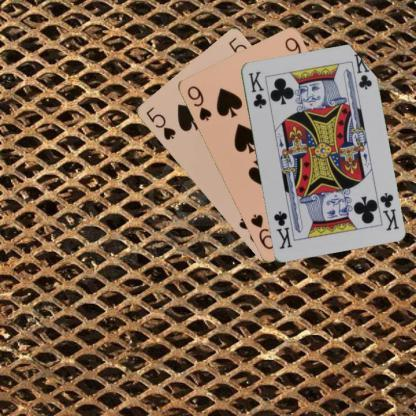5s: (143, 104, 177, 142)
9s: (184, 83, 213, 122)
Kc: (377, 190, 400, 232), (245, 69, 268, 110)
